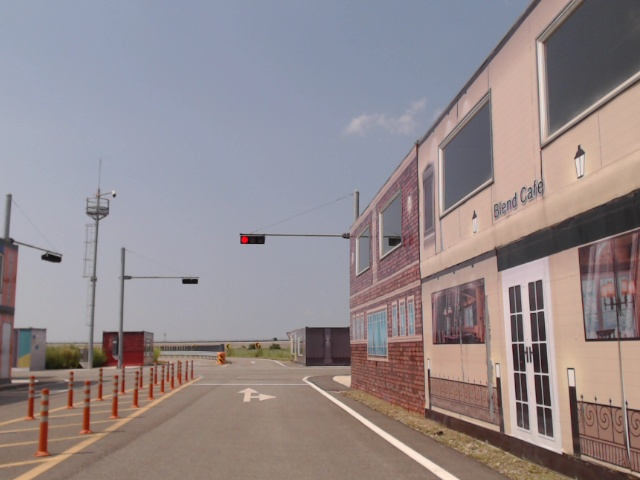red_3: (241, 235, 265, 245)
